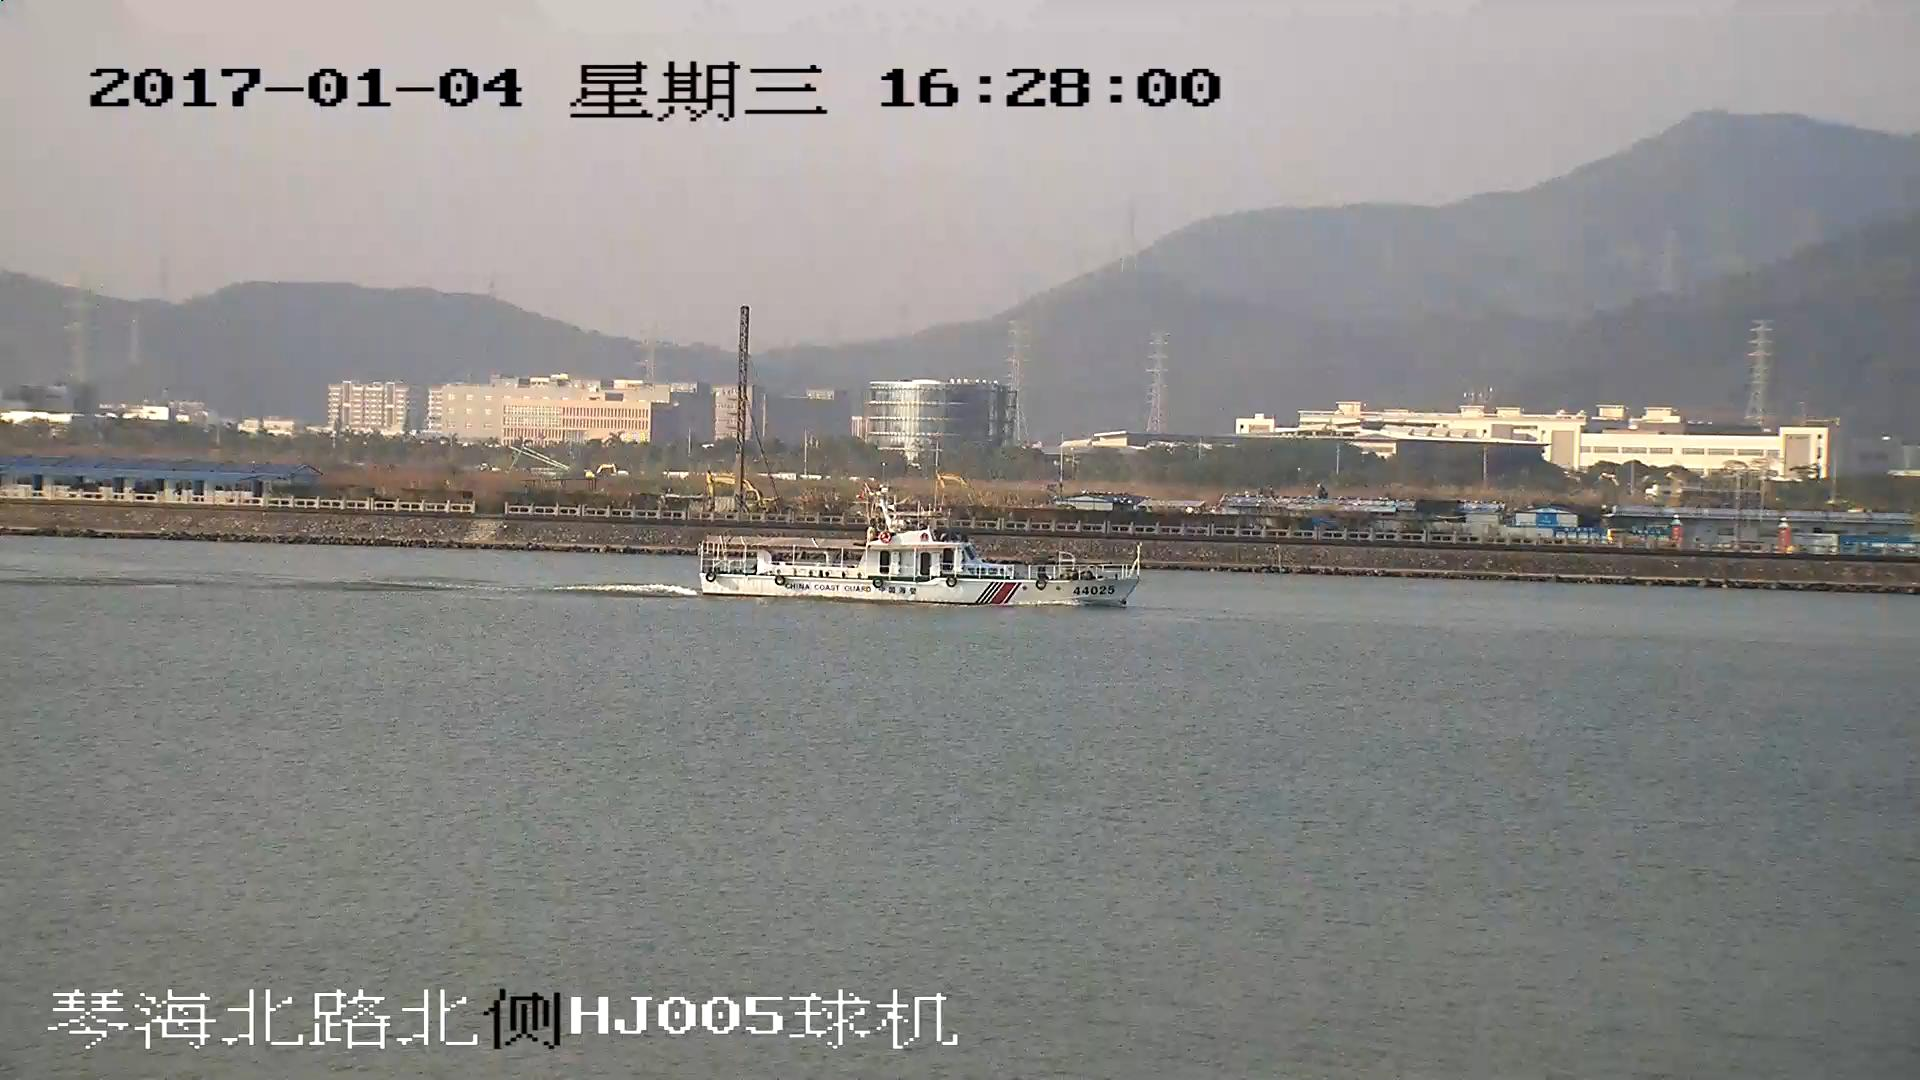passenger ship: (700, 490, 1142, 606)
